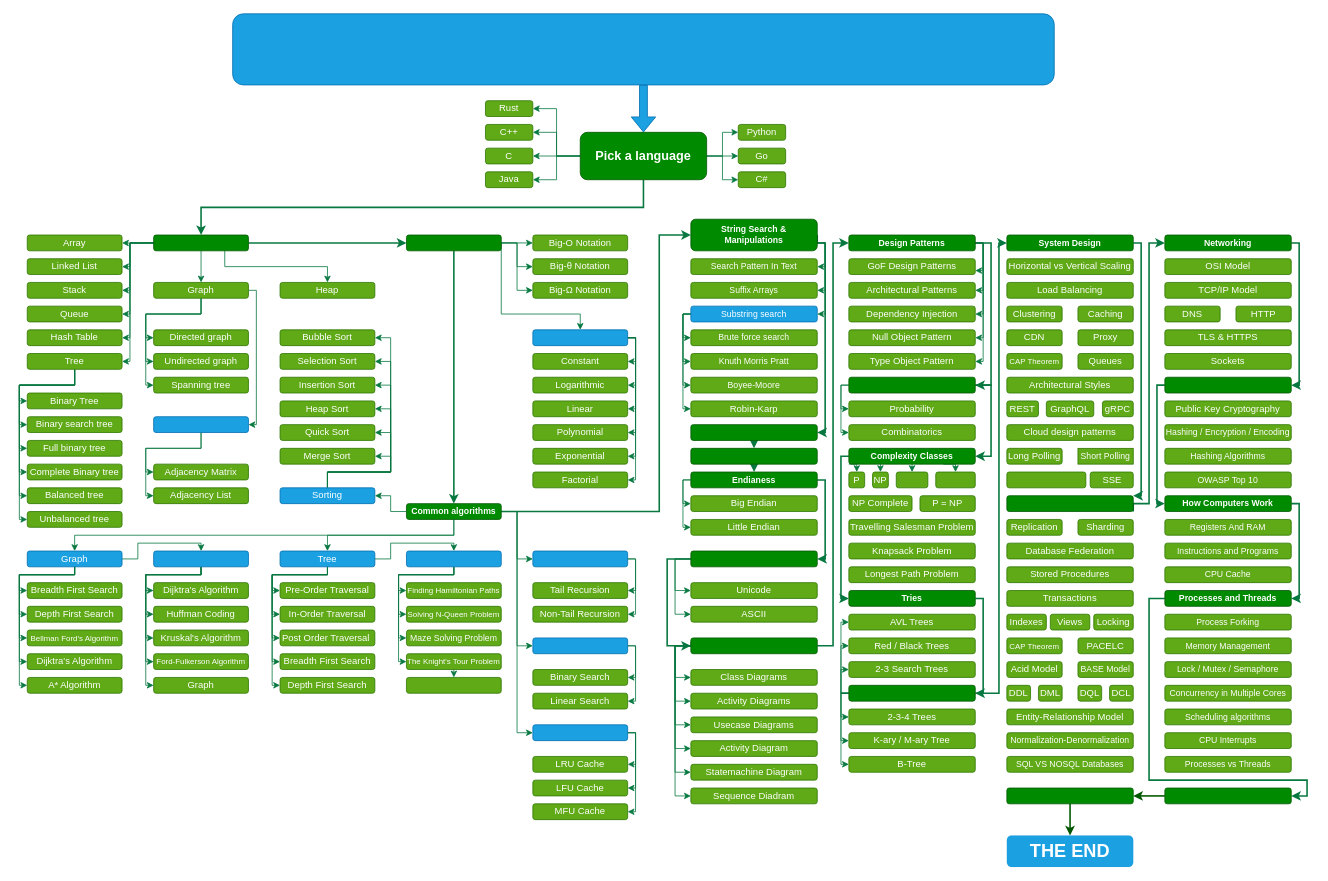
This 1328x881 diagram has some shape labels left out. Each missing label, with the box of its shape:
Asymptotic notation: (406, 234, 501, 251)
Back Tracking: (406, 550, 501, 567)
Balanced Search Trees: (848, 685, 975, 701)
Basic Math Skills: (848, 376, 975, 393)
Bitwise Operators: (690, 424, 817, 440)
Caches: (532, 724, 628, 741)
Character Encodings: (690, 550, 817, 567)
Co-NP: (895, 471, 928, 488)
Common runtimes: (532, 329, 628, 346)
Common UML Diagrams: (690, 637, 817, 654)
Computer Science: (232, 13, 1054, 85)
Data structures: (153, 234, 248, 251)
Databases: (1006, 495, 1133, 512)
Floating Point Numbers: (690, 448, 817, 464)
Greedy Algorithms: (153, 550, 248, 567)
K-D Trees: (1164, 787, 1291, 804)
NP Hard: (935, 471, 975, 488)
Recursion: (532, 550, 628, 567)
Representation: (153, 416, 248, 433)
Robin-Karp Algorithm: (406, 677, 501, 693)
Searching: (532, 637, 628, 654)
Security: (1164, 376, 1291, 393)
Skip Lists: (1006, 787, 1133, 804)
Web Sockets: (1006, 471, 1086, 488)
